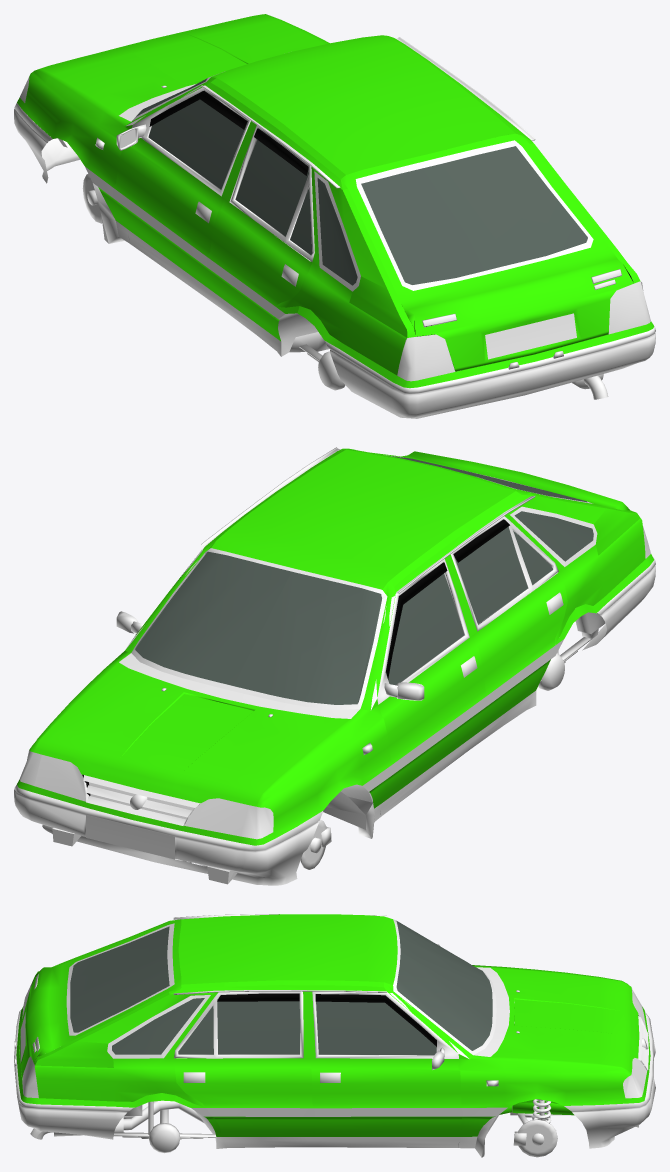
Rendered from polonez.obj.
3 views of the same model, one above another, from view 1: azimuth 30°, elevation 25°; view 2: azimuth 150°, elevation 25°; view 3: azimuth 270°, elevation 25° (orthographic). The views are drawn at different scales.
Visible parts, largest first — view 1: chassis, boot_ok, door_lf_ok, door_lr_ok, bonnet_ok, bump_rear_ok, wing_lf_ok, bump_front_ok; view 2: chassis, windscreen_ok, bonnet_ok, door_lf_ok, door_lr_ok, wing_lf_ok, bump_front_ok, boot_ok, wing_rf_ok, bump_rear_ok; view 3: chassis, door_rf_ok, door_rr_ok, boot_ok, bonnet_ok, wing_rf_ok, windscreen_ok, bump_rear_ok, bump_front_ok, wing_lf_ok.
Part boxes in pixels (x1,y1,x2,y2): chassis: (82, 35, 654, 399); boot_ok: (341, 133, 633, 371); door_lf_ok: (112, 87, 250, 295); door_lr_ok: (206, 125, 314, 338); bonnet_ok: (41, 14, 324, 115); bump_rear_ok: (324, 326, 655, 418); wing_lf_ok: (17, 68, 130, 243); bump_front_ok: (14, 103, 79, 183); chassis: (83, 447, 654, 869); windscreen_ok: (135, 551, 381, 704); bonnet_ok: (34, 662, 350, 806); door_lf_ok: (377, 559, 486, 802); door_lr_ok: (450, 516, 567, 735); wing_lf_ok: (133, 705, 391, 845); bump_front_ok: (14, 784, 323, 885); boot_ok: (344, 448, 630, 510); wing_rf_ok: (17, 651, 134, 819); bump_rear_ok: (582, 557, 655, 650); chassis: (16, 914, 648, 1157); door_rf_ok: (311, 991, 462, 1136); door_rr_ok: (174, 991, 315, 1136); boot_ok: (19, 919, 181, 1079); bonnet_ok: (491, 968, 639, 1073); wing_rf_ok: (458, 1054, 650, 1157); windscreen_ok: (396, 921, 492, 1050); bump_rear_ok: (14, 1009, 134, 1139); bump_front_ok: (564, 1011, 655, 1148); wing_lf_ok: (472, 965, 650, 1055).
Size of the model in its own units: 2.19 by 1.51 by 5.06.
